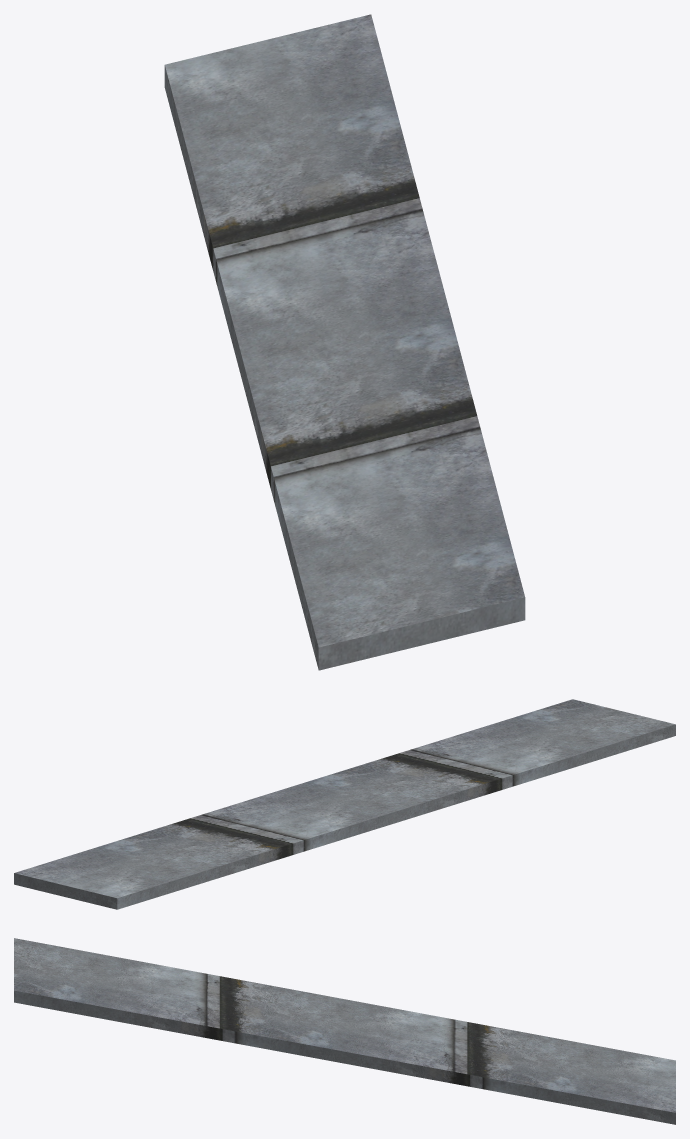
The model's file is Urban_RoadSideFull45_Model.fbx.
The picture shows the model from 3 angles, top to bottom: view 1: azimuth 30°, elevation 25°; view 2: azimuth 150°, elevation 25°; view 3: azimuth 270°, elevation 25°; orthographic projection. The views are drawn at different scales.
Visible parts, largest first — view 1: Urban_RoadSideFull45_Mesh; view 2: Urban_RoadSideFull45_Mesh; view 3: Urban_RoadSideFull45_Mesh.
Part boxes in pixels (x1,y1,x2,y2): Urban_RoadSideFull45_Mesh: [164, 14, 525, 670]; Urban_RoadSideFull45_Mesh: [14, 699, 675, 909]; Urban_RoadSideFull45_Mesh: [14, 938, 675, 1124].
Size of the model in its own units: 10 by 0.32 by 16.
